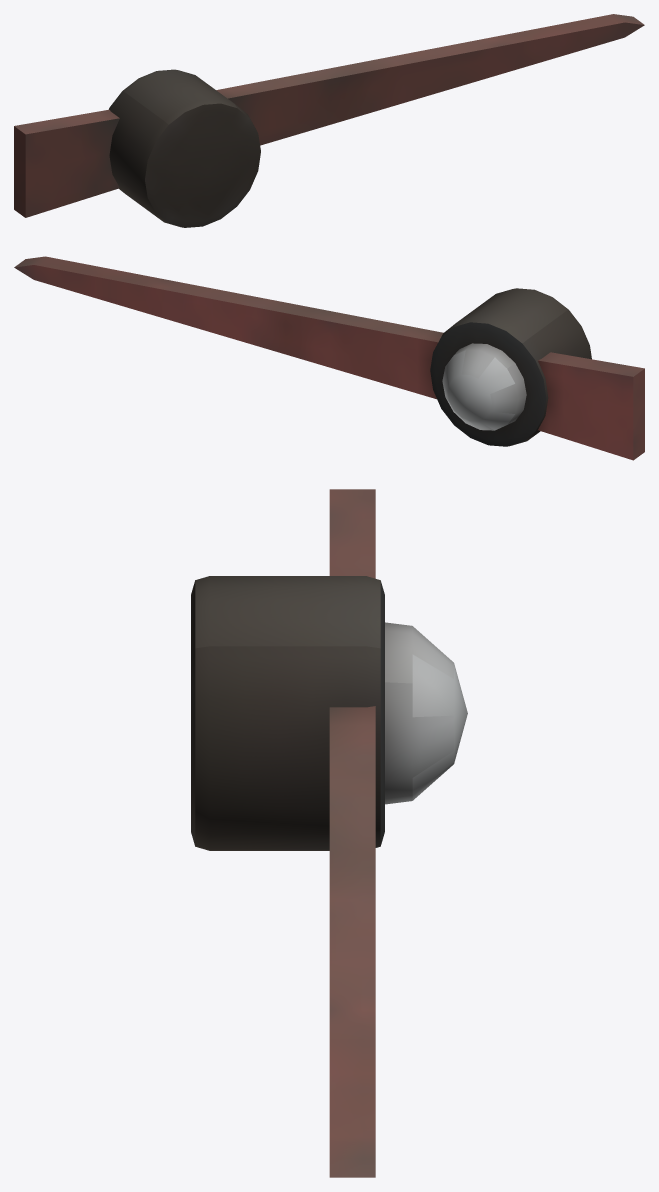
The model's file is SM_Boiler_03_Needle.fbx.
3 renders of one model, top to bottom at view 1: azimuth 30°, elevation 25°; view 2: azimuth 150°, elevation 25°; view 3: azimuth 270°, elevation 25°, orthographic. The views are drawn at different scales.
Parts seen in each view (by area): view 1: SM_Boiler_03_Needle; view 2: SM_Boiler_03_Needle; view 3: SM_Boiler_03_Needle.
Part boxes in pixels (x1,y1,x2,y2): SM_Boiler_03_Needle: [14, 14, 644, 227]; SM_Boiler_03_Needle: [14, 256, 644, 460]; SM_Boiler_03_Needle: [191, 489, 467, 1177].
Size of the model in its own units: 15.5 by 3 by 3.
1 material, 1 textured.
